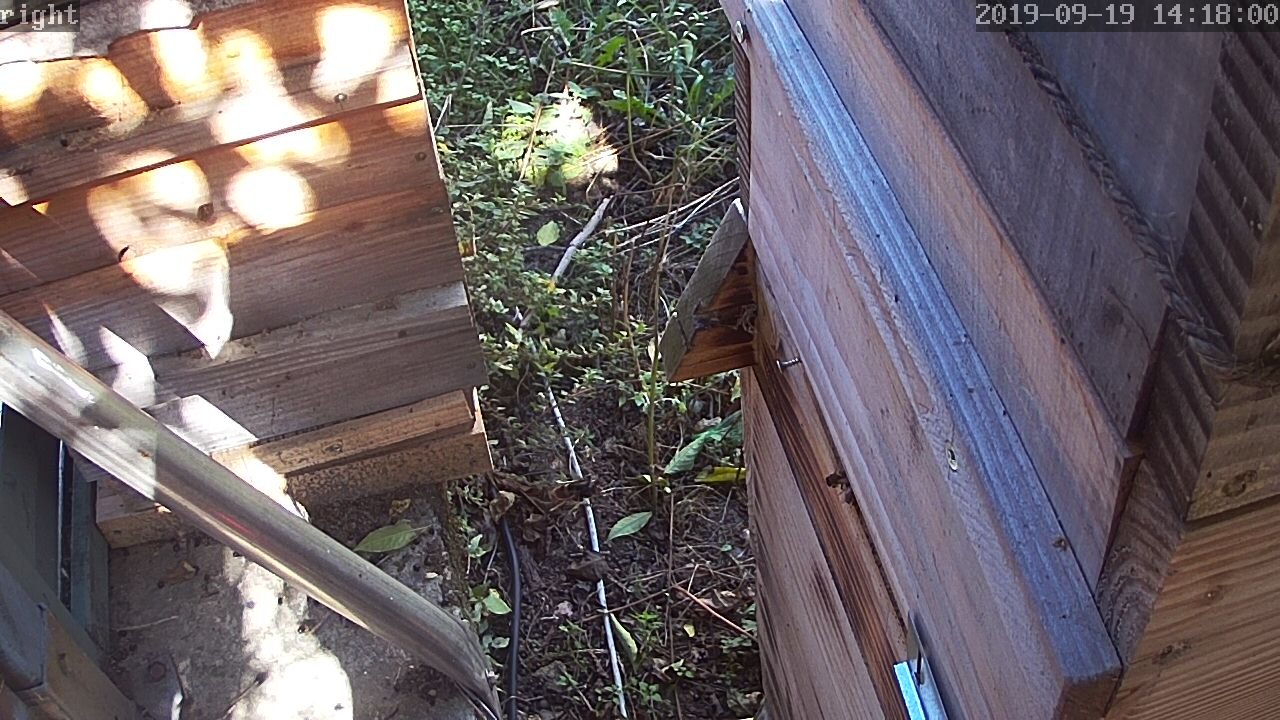bee: (824, 466, 848, 490)
hornet: (549, 472, 604, 513)
